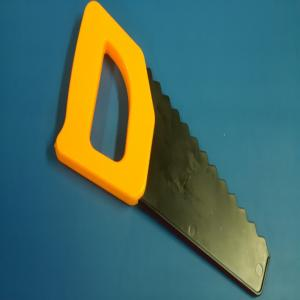serrote: (54, 0, 272, 299)
